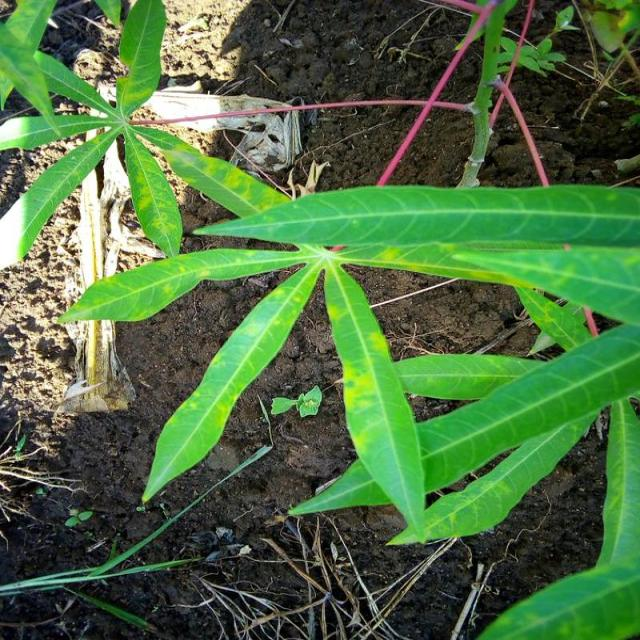cassava leaf: (56, 140, 638, 547)
